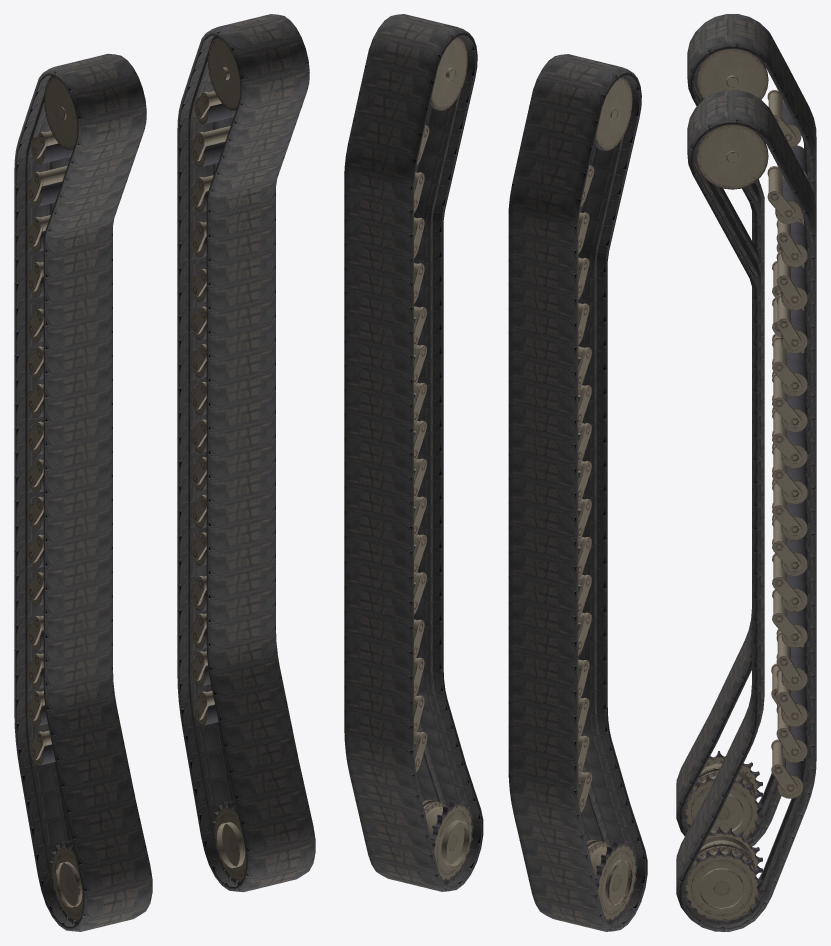
Rendered from Chassis.glb.
The picture shows the model from 3 angles, left to right: view 1: azimuth 30°, elevation 25°; view 2: azimuth 150°, elevation 25°; view 3: azimuth 270°, elevation 25°; orthographic projection. The views are drawn at different scales.
Parts seen in each view (by area): view 1: set_0_group_0, set_1_group_0, set_3_group_0, set_5_group_0, set_2_group_0, set_4_group_0; view 2: set_1_group_0, set_0_group_0, set_3_group_0, set_5_group_0, set_2_group_0, set_4_group_0; view 3: set_0_group_0, set_5_group_0, set_1_group_0, set_3_group_0, set_4_group_0.
Boxes of the visible parts, x1,y1,x2,y2 form: set_0_group_0: [177, 14, 315, 892]; set_1_group_0: [14, 53, 152, 931]; set_3_group_0: [27, 76, 83, 924]; set_5_group_0: [191, 37, 246, 884]; set_2_group_0: [27, 174, 45, 760]; set_4_group_0: [191, 134, 209, 720]; set_1_group_0: [508, 54, 647, 931]; set_0_group_0: [344, 14, 483, 891]; set_3_group_0: [578, 77, 637, 924]; set_5_group_0: [414, 37, 473, 884]; set_2_group_0: [578, 219, 591, 810]; set_4_group_0: [414, 178, 426, 769]; set_0_group_0: [676, 90, 816, 931]; set_5_group_0: [683, 125, 807, 924]; set_1_group_0: [676, 14, 816, 846]; set_3_group_0: [683, 49, 807, 837]; set_4_group_0: [772, 234, 801, 794].
Size of the model in its own units: 2.88 by 10.21 by 1.59.
Materials: 6 (6 with a texture image).
